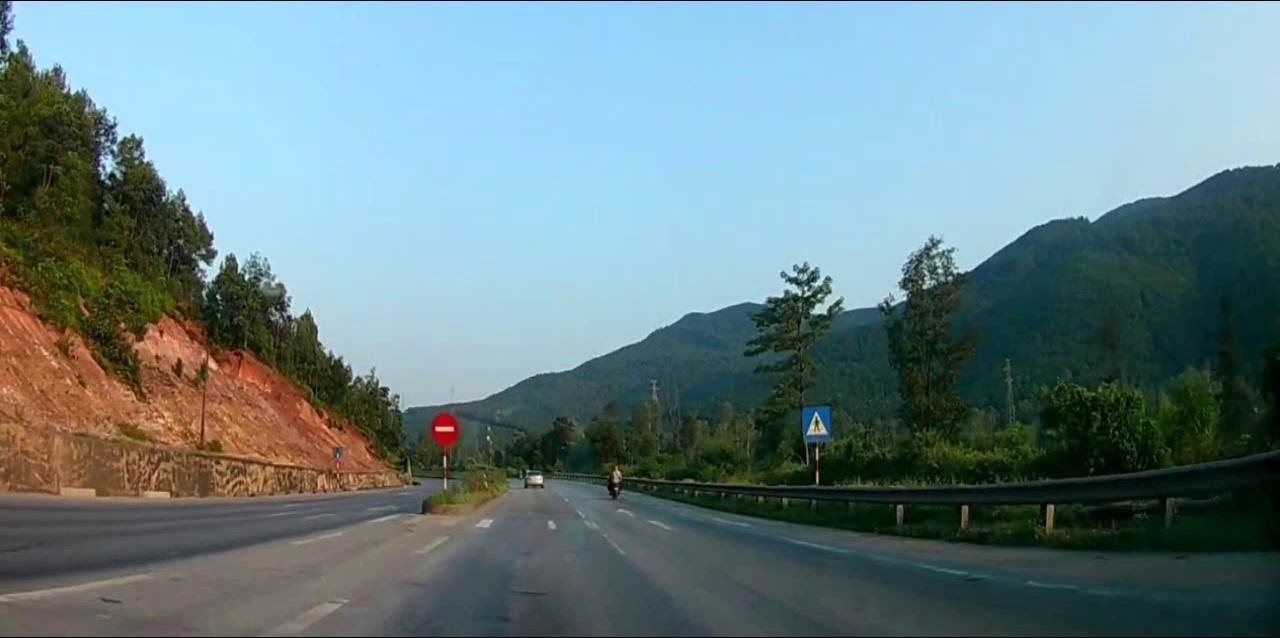Cam di nguoc chieu: (432, 413, 459, 449)
Nguoi di bo: (801, 404, 833, 444)
